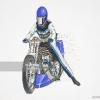motorcycles: (20, 43, 64, 94)
